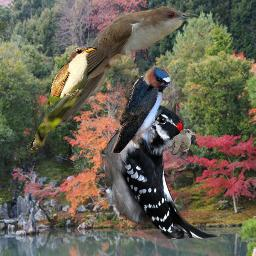Cuckoo: (42, 6, 200, 125), (27, 44, 99, 154), (171, 129, 195, 155)
Swallow: (108, 66, 171, 153)
Woodpecker: (100, 99, 218, 239)
